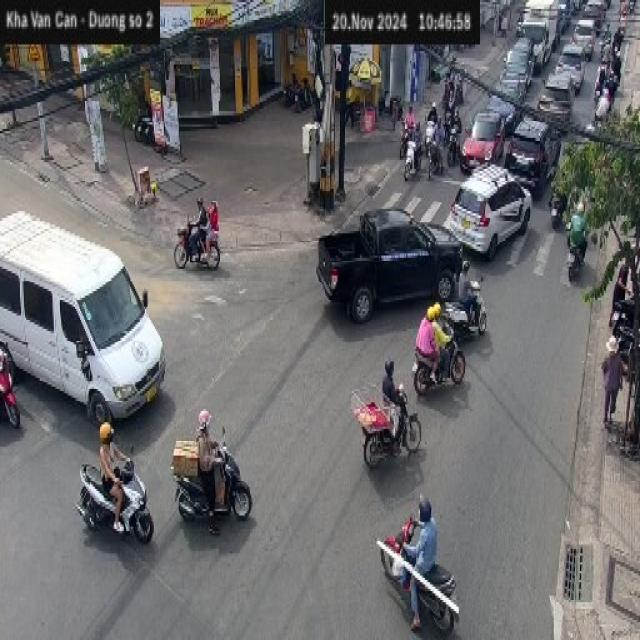car: (0, 213, 168, 424), (312, 202, 462, 324), (446, 160, 532, 256)
motorcycle: (378, 519, 465, 640), (75, 455, 158, 547), (170, 440, 254, 529), (411, 331, 470, 398), (172, 215, 224, 275), (0, 348, 24, 432)
person: (413, 495, 441, 572), (195, 406, 222, 478), (94, 420, 124, 482), (377, 356, 400, 411), (206, 198, 224, 242), (193, 194, 209, 242)
